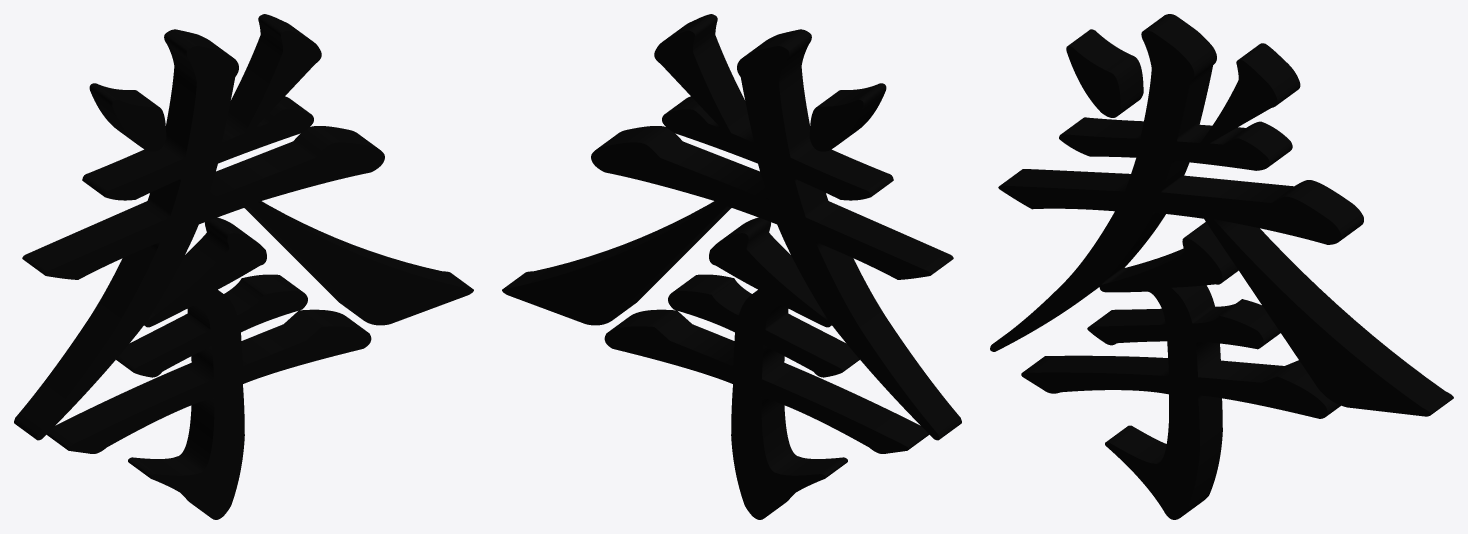
Rendered from kenn.obj.
3 views of the same model, side by side, from view 1: azimuth 30°, elevation 25°; view 2: azimuth 150°, elevation 25°; view 3: azimuth 330°, elevation 25° (orthographic).
Parts seen in each view (by area): view 1: テキスト.001; view 2: テキスト.001; view 3: テキスト.001.
Part boxes in pixels (x1,y1,x2,y2): テキスト.001: (14, 14, 473, 519); テキスト.001: (502, 14, 961, 519); テキスト.001: (990, 14, 1453, 519).
Bounding box in the file's own units: 17.9 × 18.74 × 1.6.
1 material, 1 textured.
